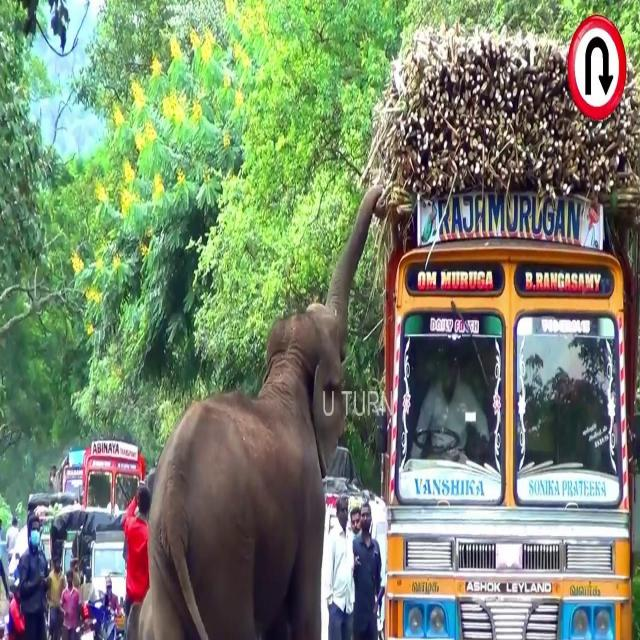Elephant: (146, 183, 387, 634)
